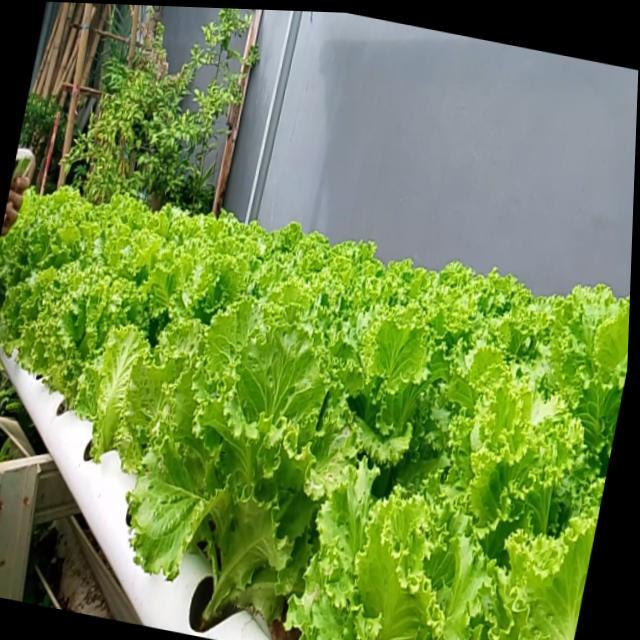Mature: (127, 308, 344, 638), (17, 263, 133, 428)
